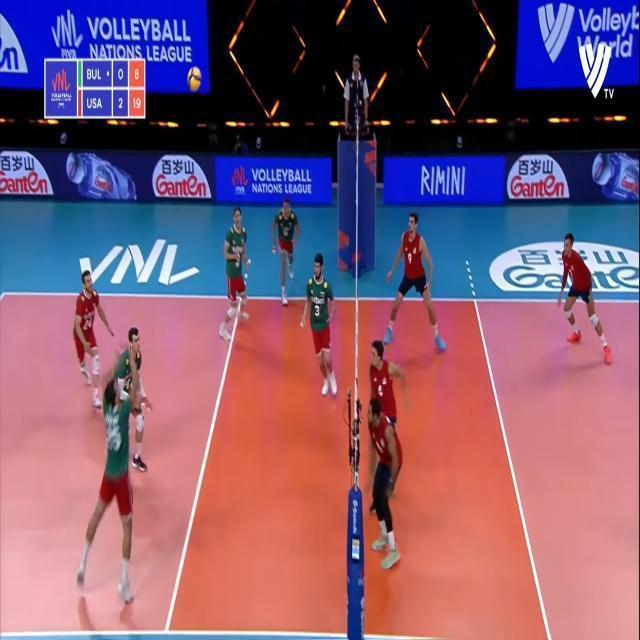volleyball: (188, 66, 200, 91)
